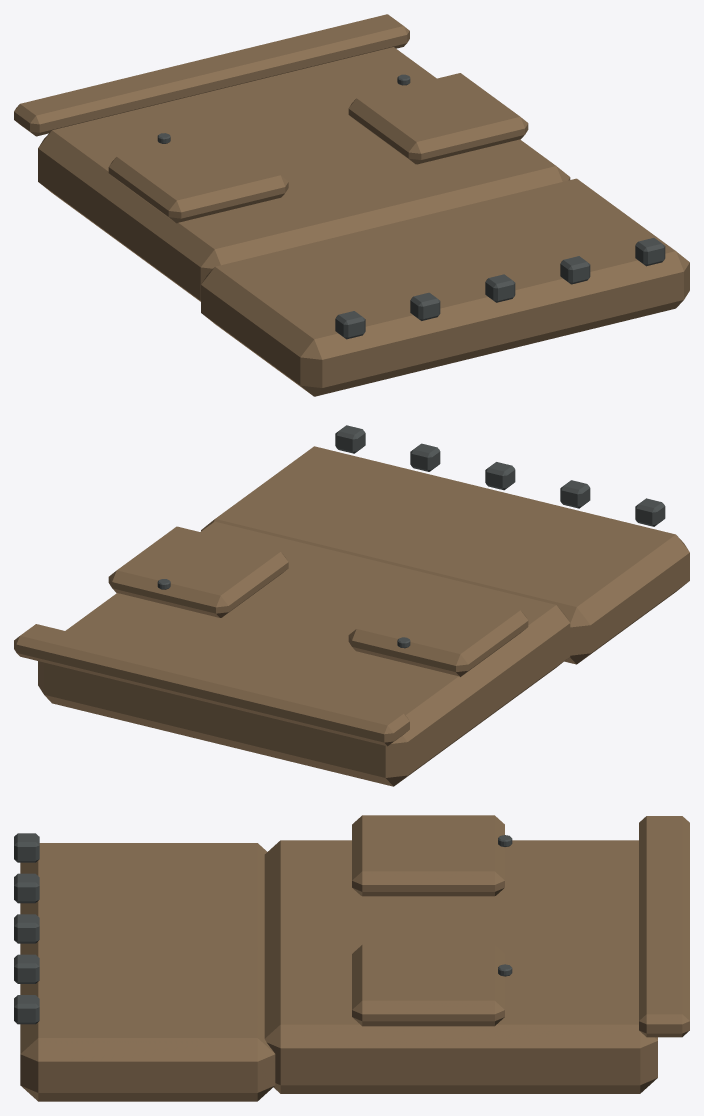
The model's file is item_work_pants.glb.
3 renders of one model, top to bottom at view 1: azimuth 30°, elevation 25°; view 2: azimuth 150°, elevation 25°; view 3: azimuth 270°, elevation 25°, orthographic. The views are drawn at different scales.
Visible parts, largest first — view 1: item_work_pants; view 2: item_work_pants; view 3: item_work_pants.
Part boxes in pixels (x1,y1,x2,y2): item_work_pants: (14,14,689,396); item_work_pants: (14,425,689,786); item_work_pants: (14,815,689,1101).
Size of the model in its own units: 0.39 by 0.088 by 0.53.
